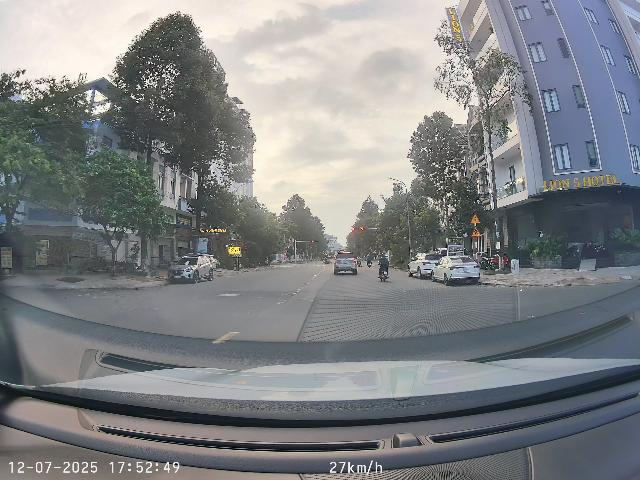209-giao-nhau-co-tin-hieu-den: (470, 213, 481, 224)
224-duong-nguoi-di-bo-cat-ngang: (471, 226, 481, 237)
